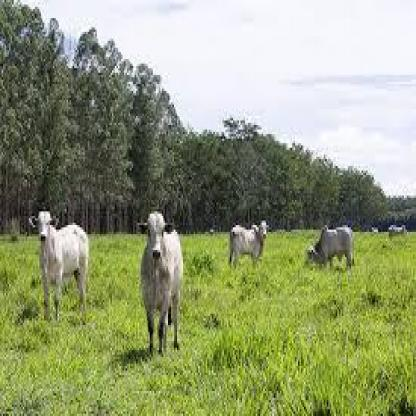cow: (137, 209, 184, 355), (30, 209, 90, 321), (308, 224, 355, 274), (230, 218, 268, 268)
